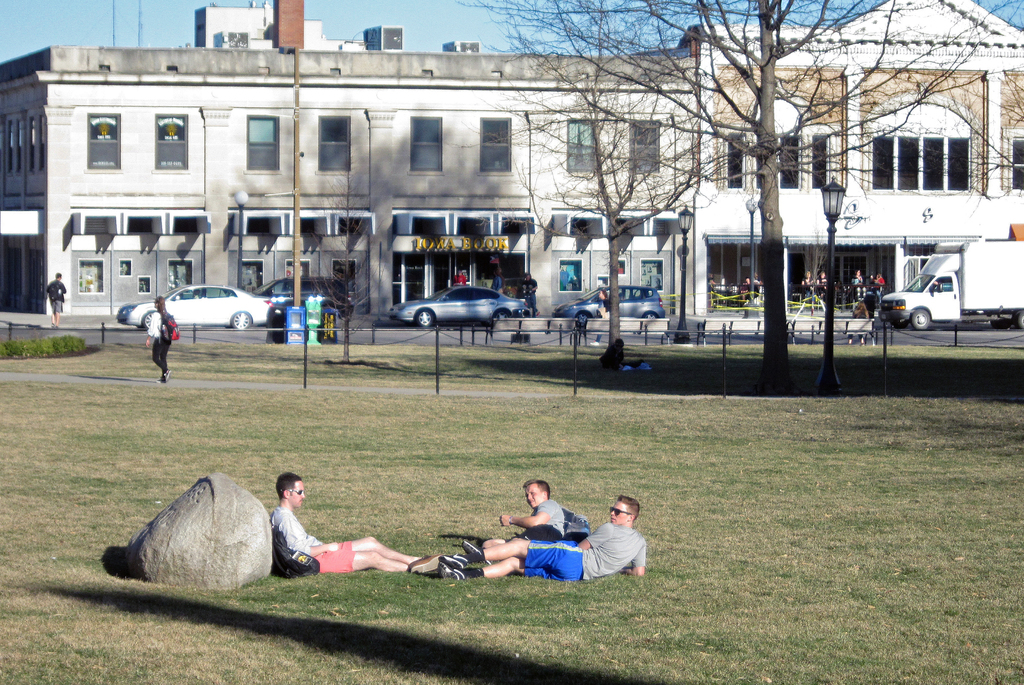Tree: (491, 0, 1022, 382)
